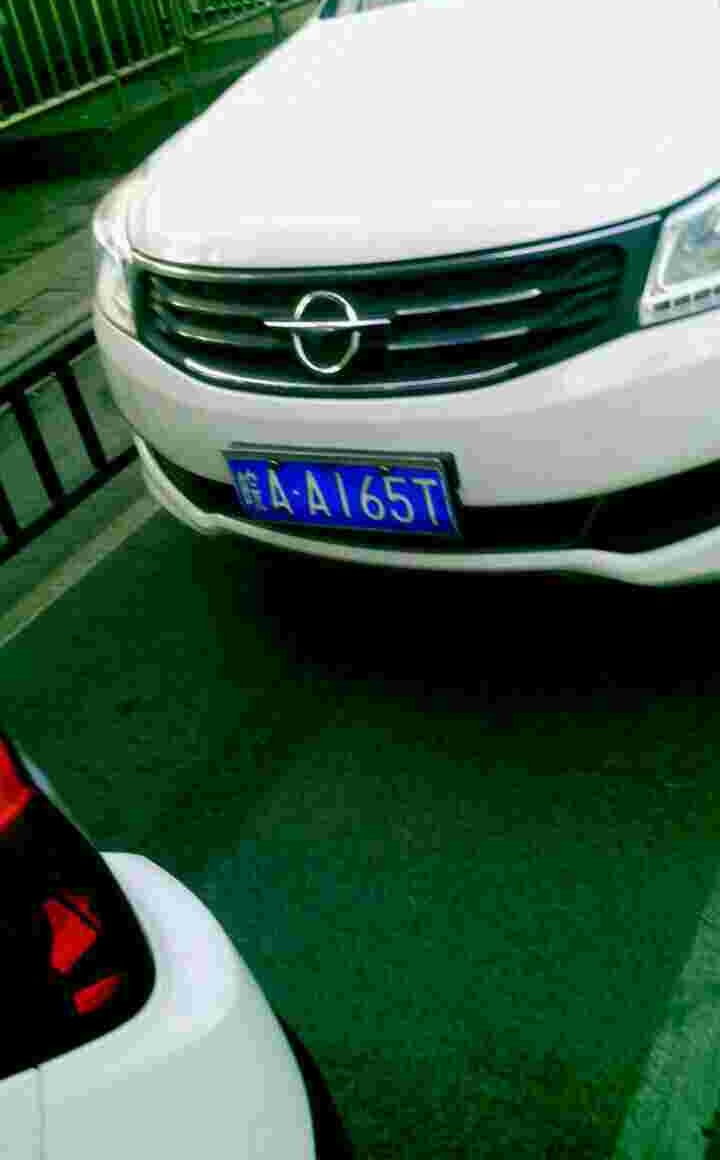license_plate: (230, 448, 465, 544)
